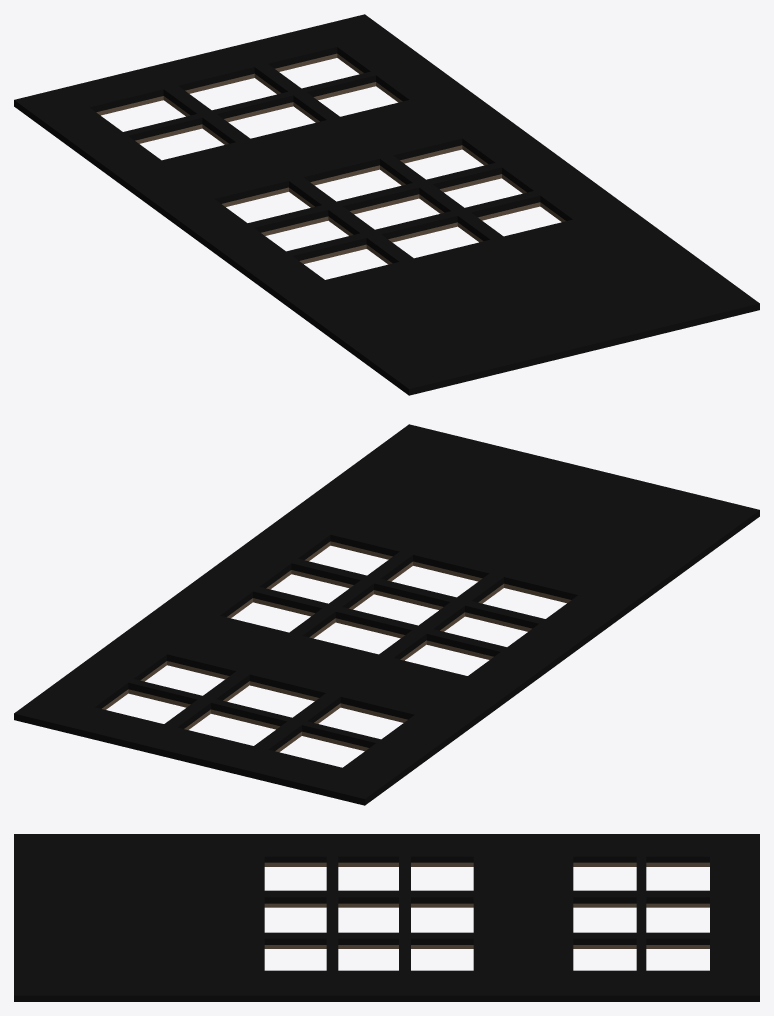
Rendered from ceiling_with_window.fbx.
3 views of the same model, one above another, from view 1: azimuth 30°, elevation 25°; view 2: azimuth 150°, elevation 25°; view 3: azimuth 270°, elevation 25° (orthographic). The views are drawn at different scales.
Visible parts, largest first — view 1: pCube10; view 2: pCube10; view 3: pCube10.
Boxes of the visible parts, bbox=[...] form: pCube10: bbox=[14, 14, 759, 395]; pCube10: bbox=[14, 424, 759, 805]; pCube10: bbox=[14, 834, 759, 1001].
Size of the model in its own units: 808 by 24.07 by 1575.
